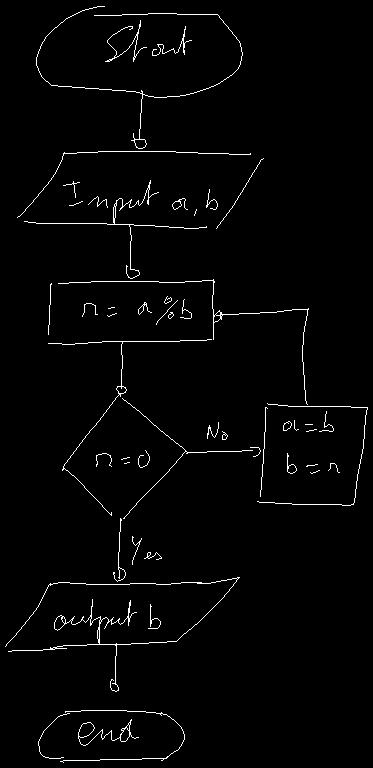arrow: (213, 308, 308, 404), (131, 90, 146, 148), (113, 518, 125, 581), (126, 225, 139, 278), (186, 447, 260, 456), (116, 341, 126, 393), (110, 643, 118, 691)
data: (17, 151, 263, 228), (5, 577, 239, 651)
decision: (62, 393, 187, 518)
process: (257, 403, 367, 505), (48, 279, 214, 344)
terminator: (36, 6, 242, 97), (38, 710, 184, 762)
text: (63, 180, 217, 224), (54, 599, 160, 644), (105, 20, 191, 61), (283, 411, 339, 473), (82, 296, 191, 324), (78, 719, 138, 745), (96, 450, 149, 467), (132, 536, 161, 564), (207, 422, 227, 439)
